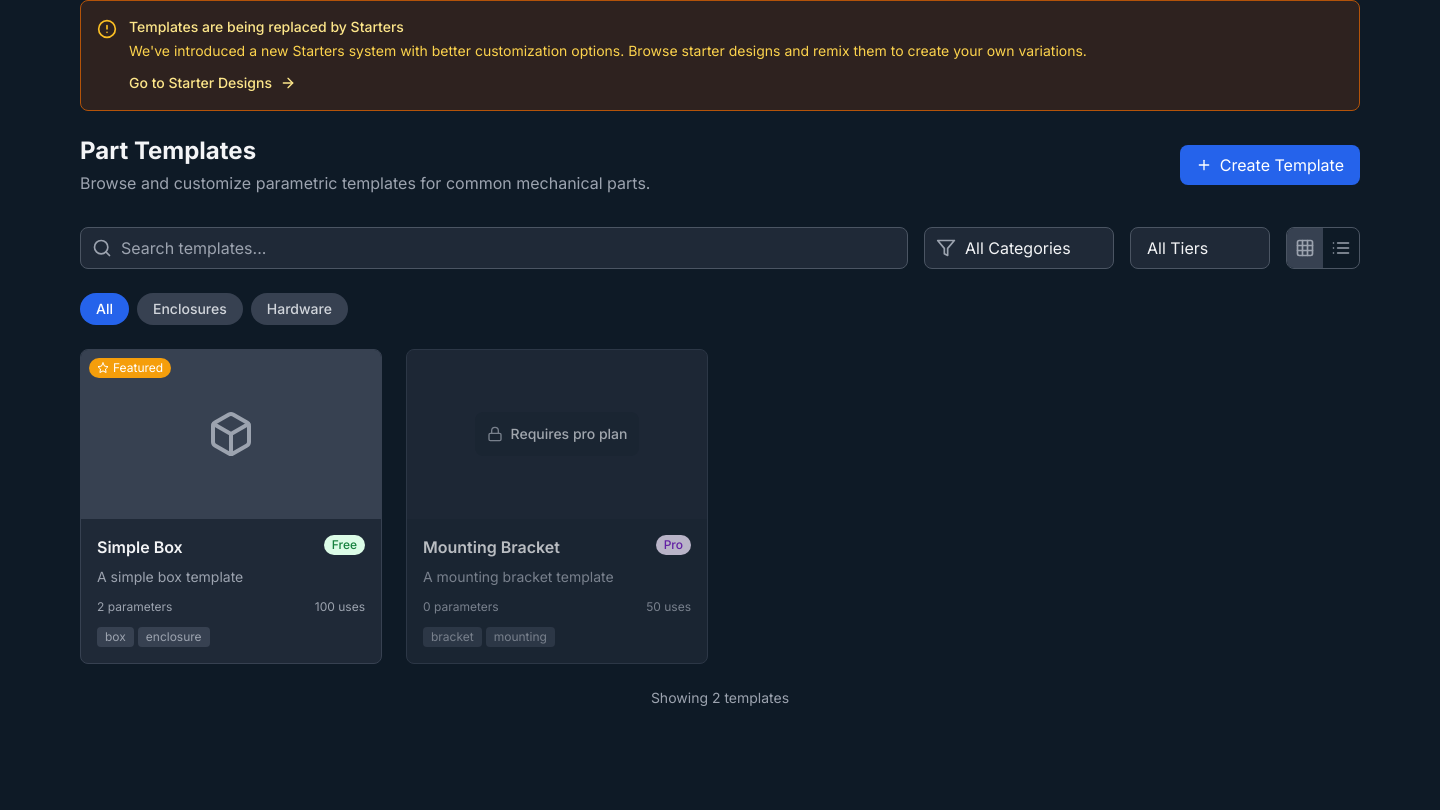
TemplatesPage › Create Template Modal › closes modal when clicking cancel
The image size is (1440, 810).
Expected: the heading "Simple Box" is shown, [97, 535, 183, 559]
# Open modal
Click the button "Create Template" at (1270, 165), box [1180, 145, 1360, 185]
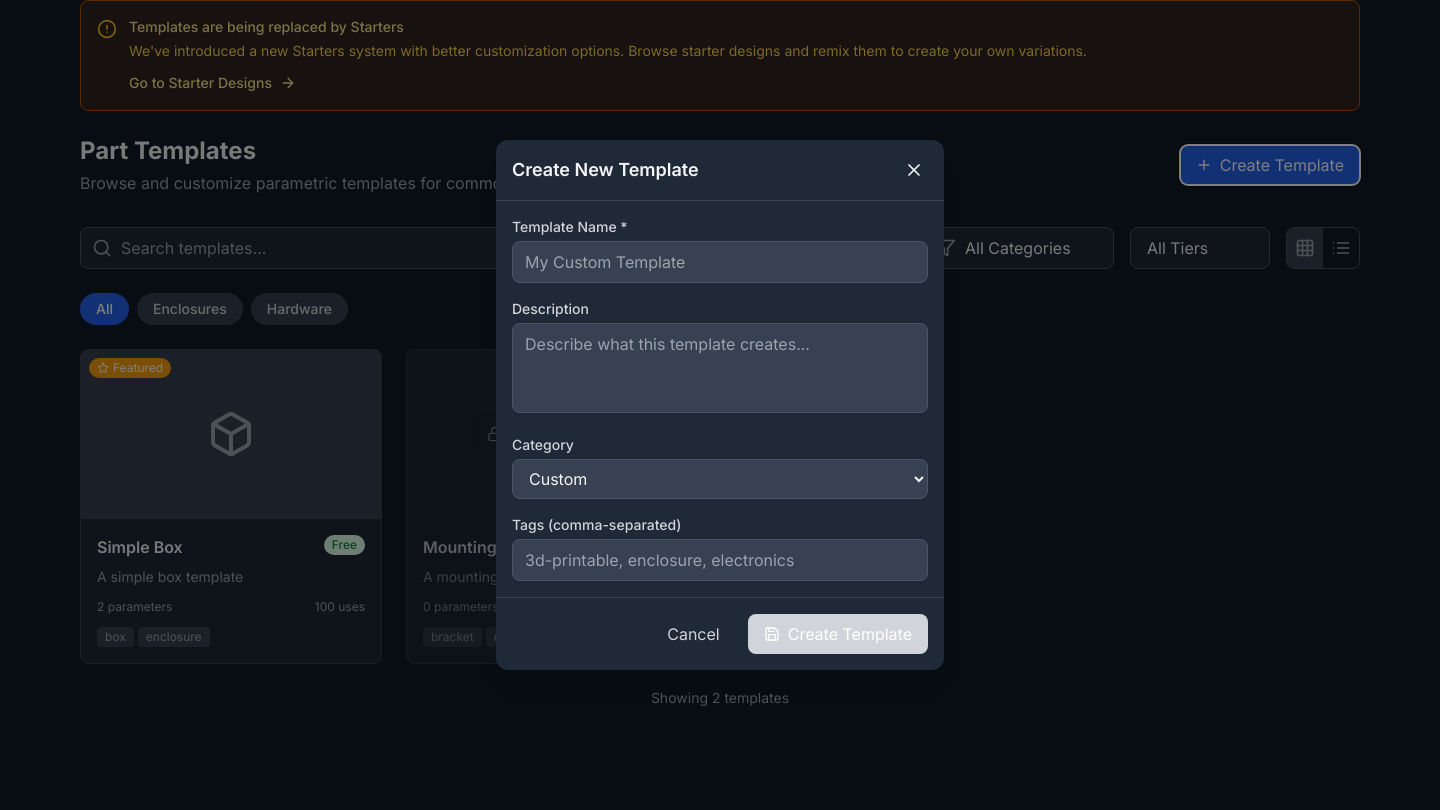
Expected: the heading "Create New Template" is shown, [512, 156, 699, 184]
# Click cancel
Click the button "Cancel" at (693, 634), box [651, 614, 736, 654]
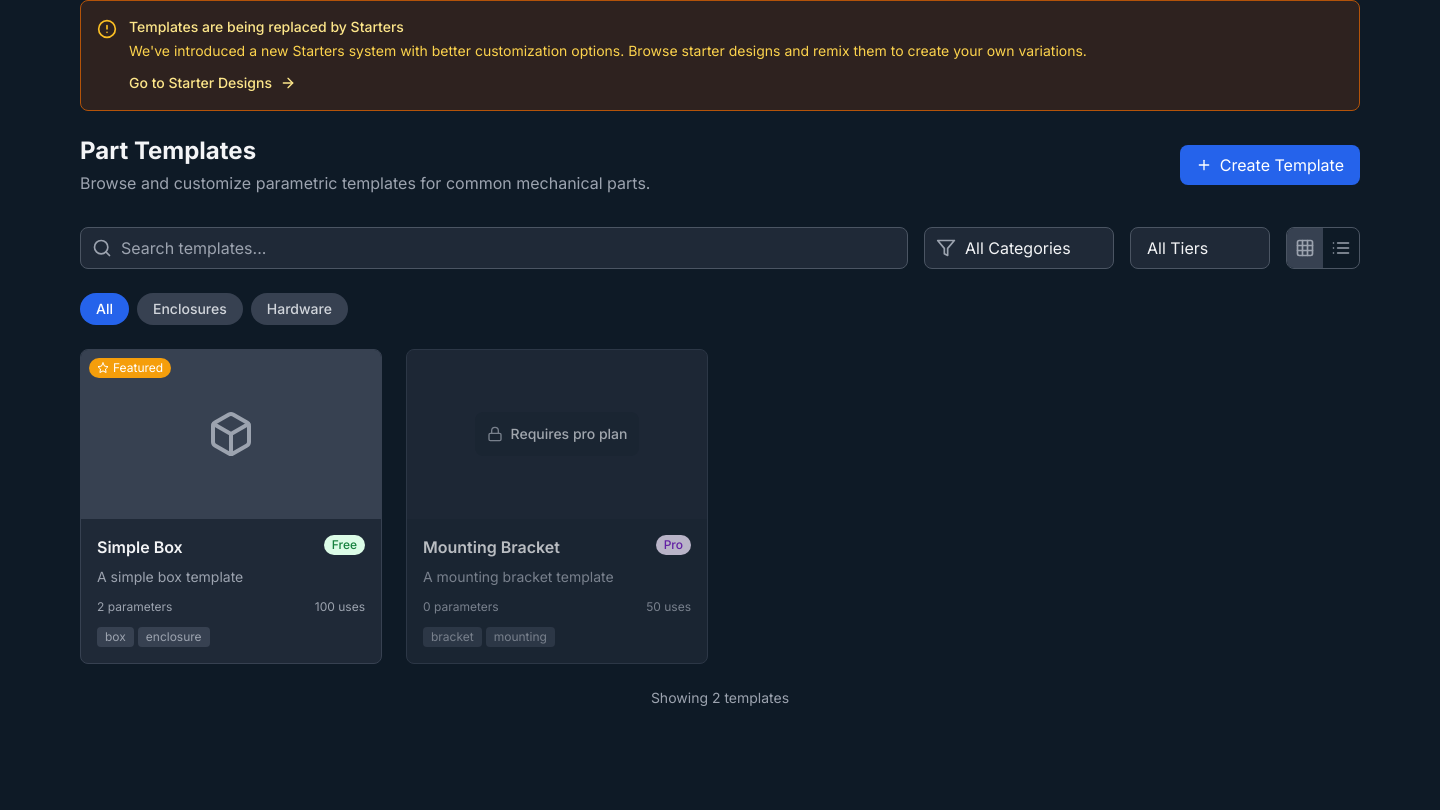
Expected: the heading "Create New Template" is gone
